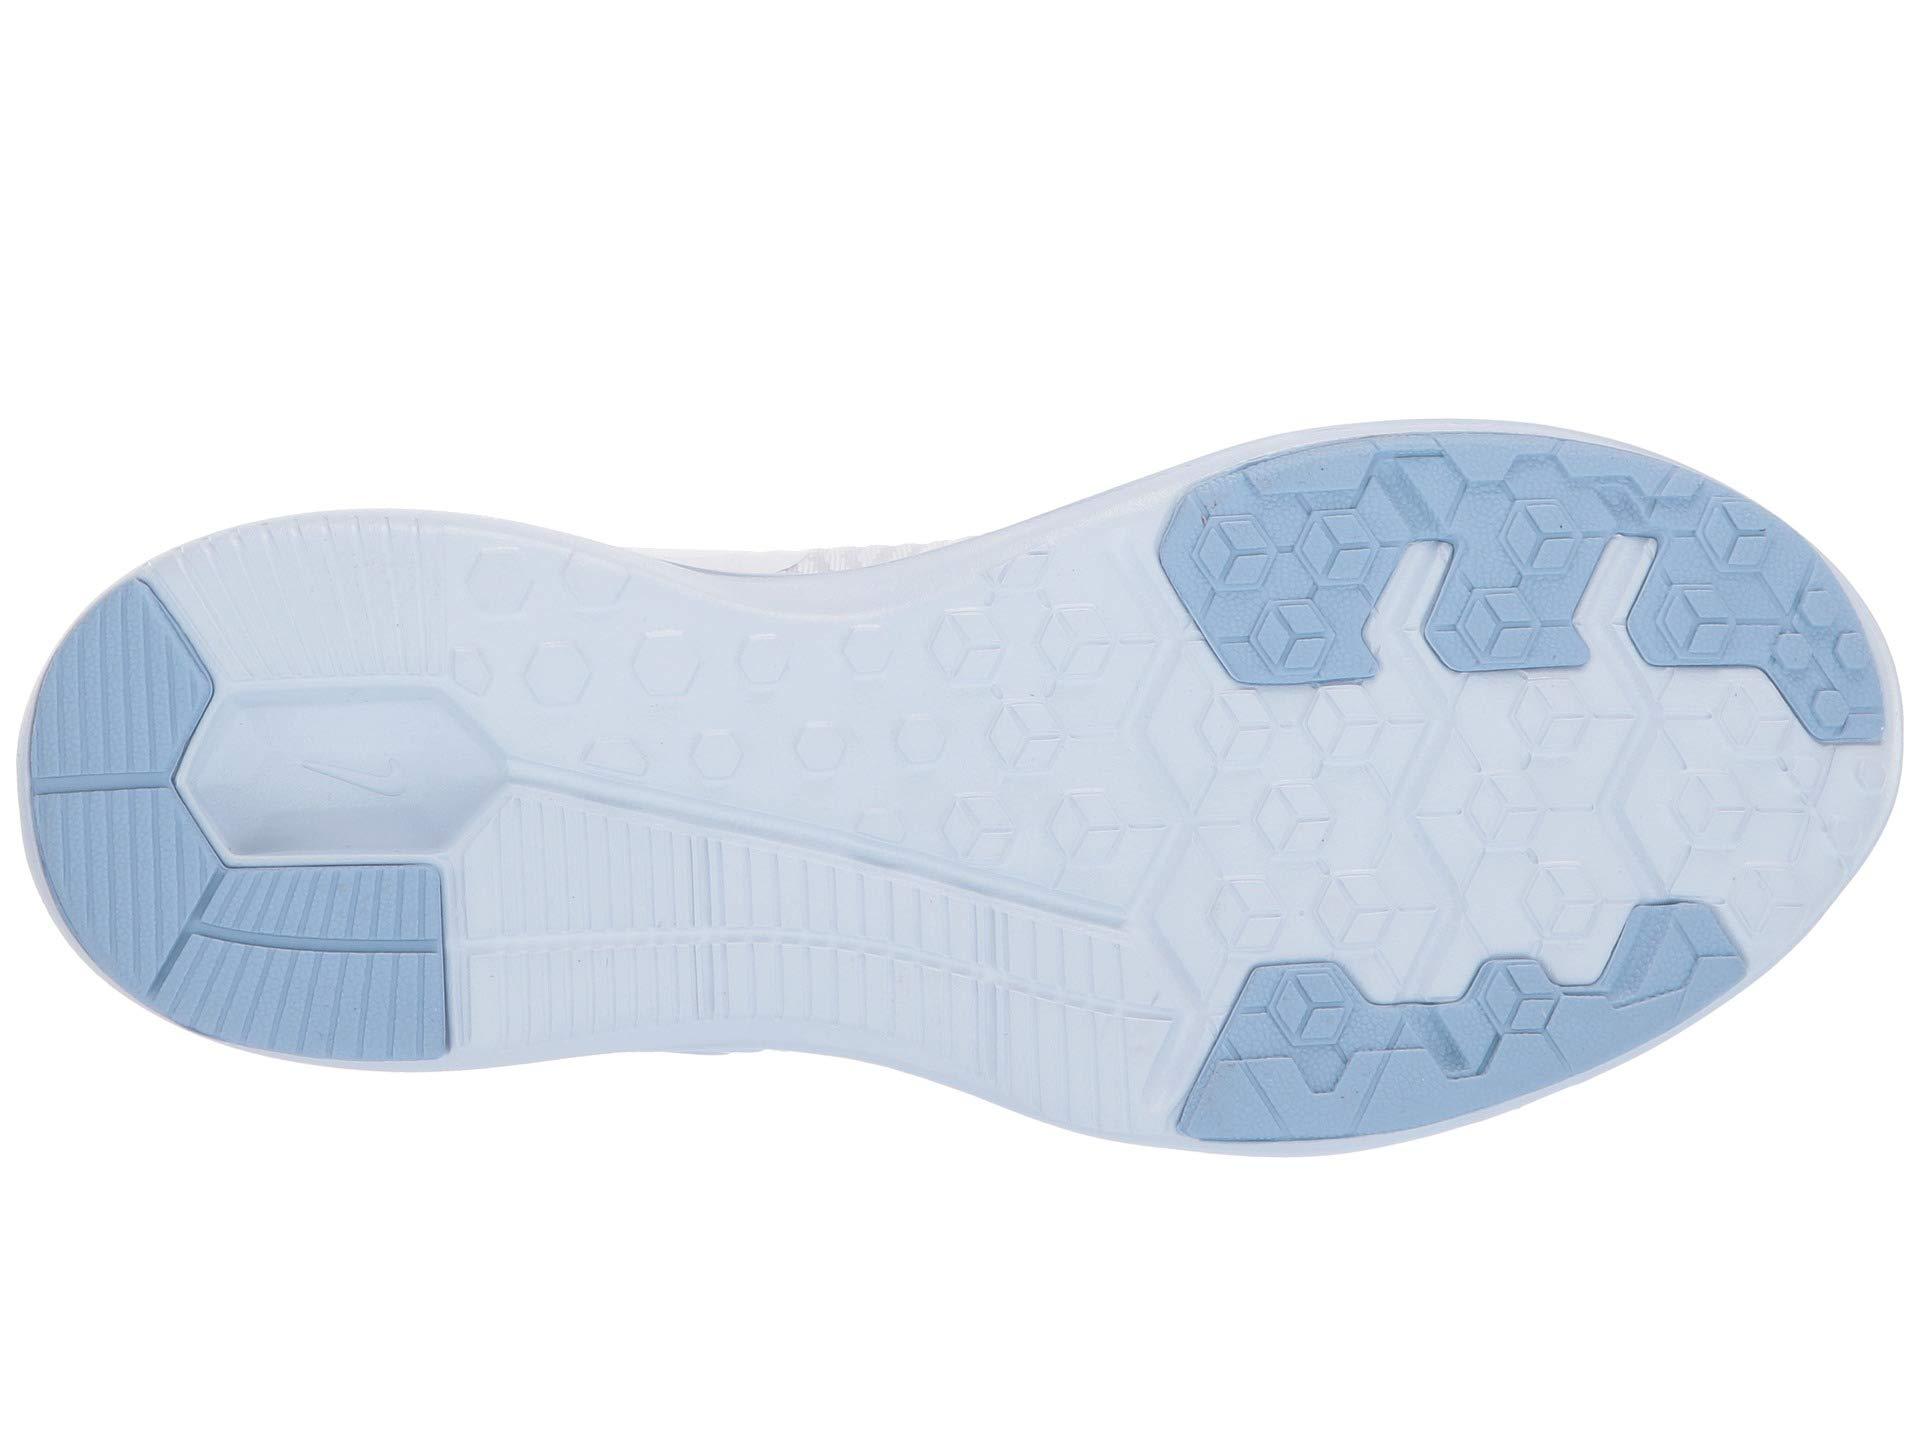polygon: (516, 590, 962, 814), (1782, 569, 1878, 749)
quad: (683, 827, 996, 1086), (1435, 684, 1646, 1019), (1188, 691, 1414, 964), (178, 846, 434, 1063), (443, 820, 680, 1039), (972, 579, 1129, 880), (219, 493, 447, 700), (1642, 573, 1775, 902), (1181, 489, 1398, 681), (23, 781, 212, 980), (27, 590, 207, 777), (1426, 495, 1590, 675), (993, 924, 1120, 1119), (1259, 964, 1368, 1054), (1117, 1007, 1181, 1125)
